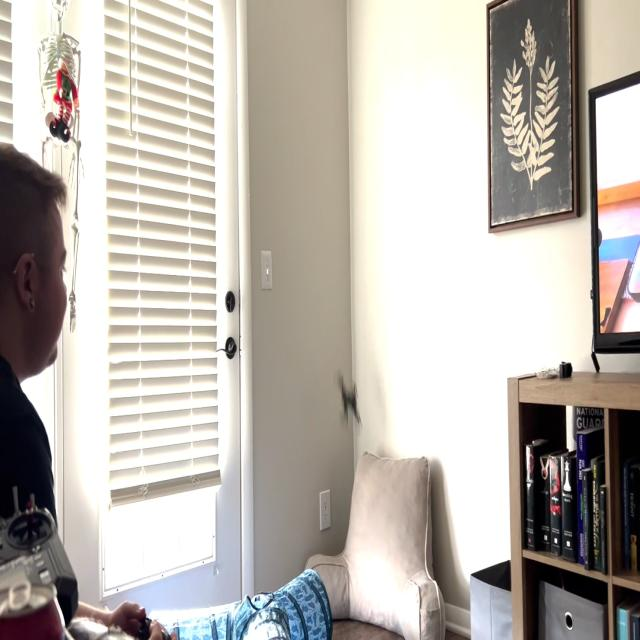drone: (331, 362, 371, 436)
